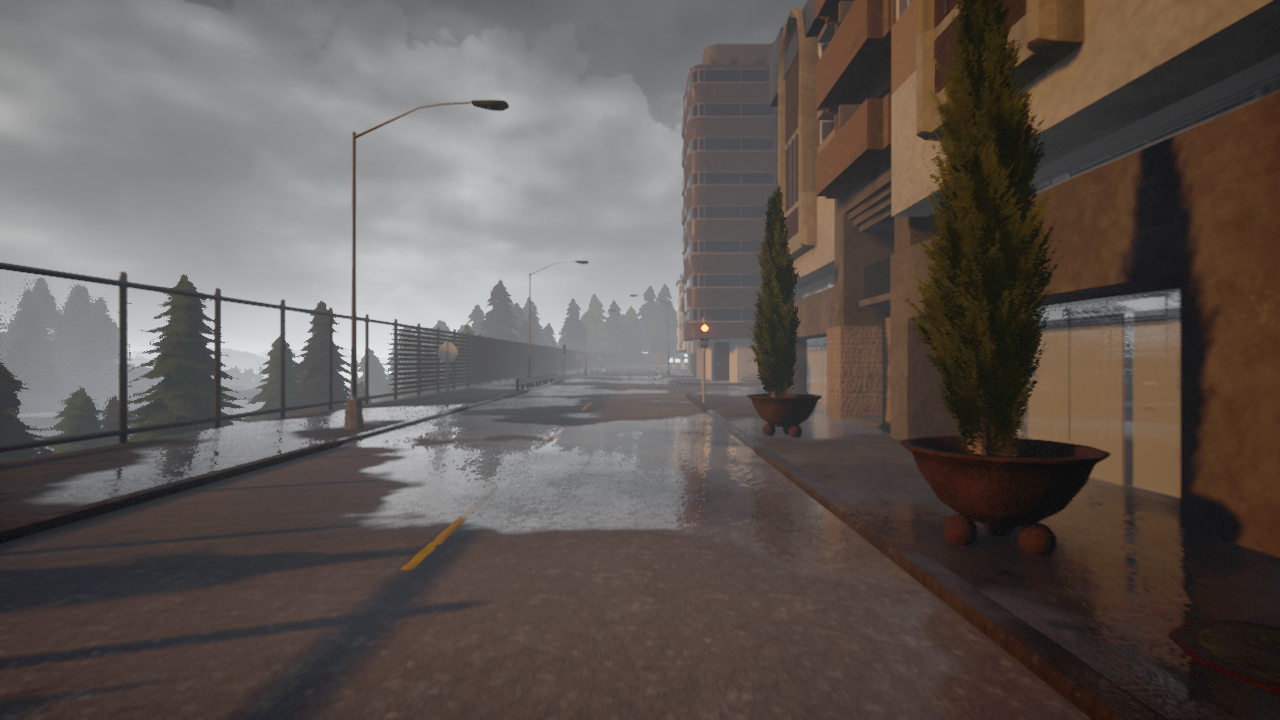red: (700, 322, 709, 347)
